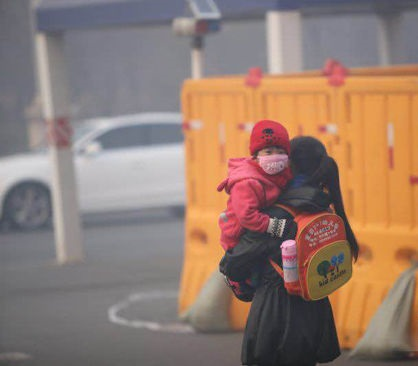face_mask: (259, 143, 287, 172)
